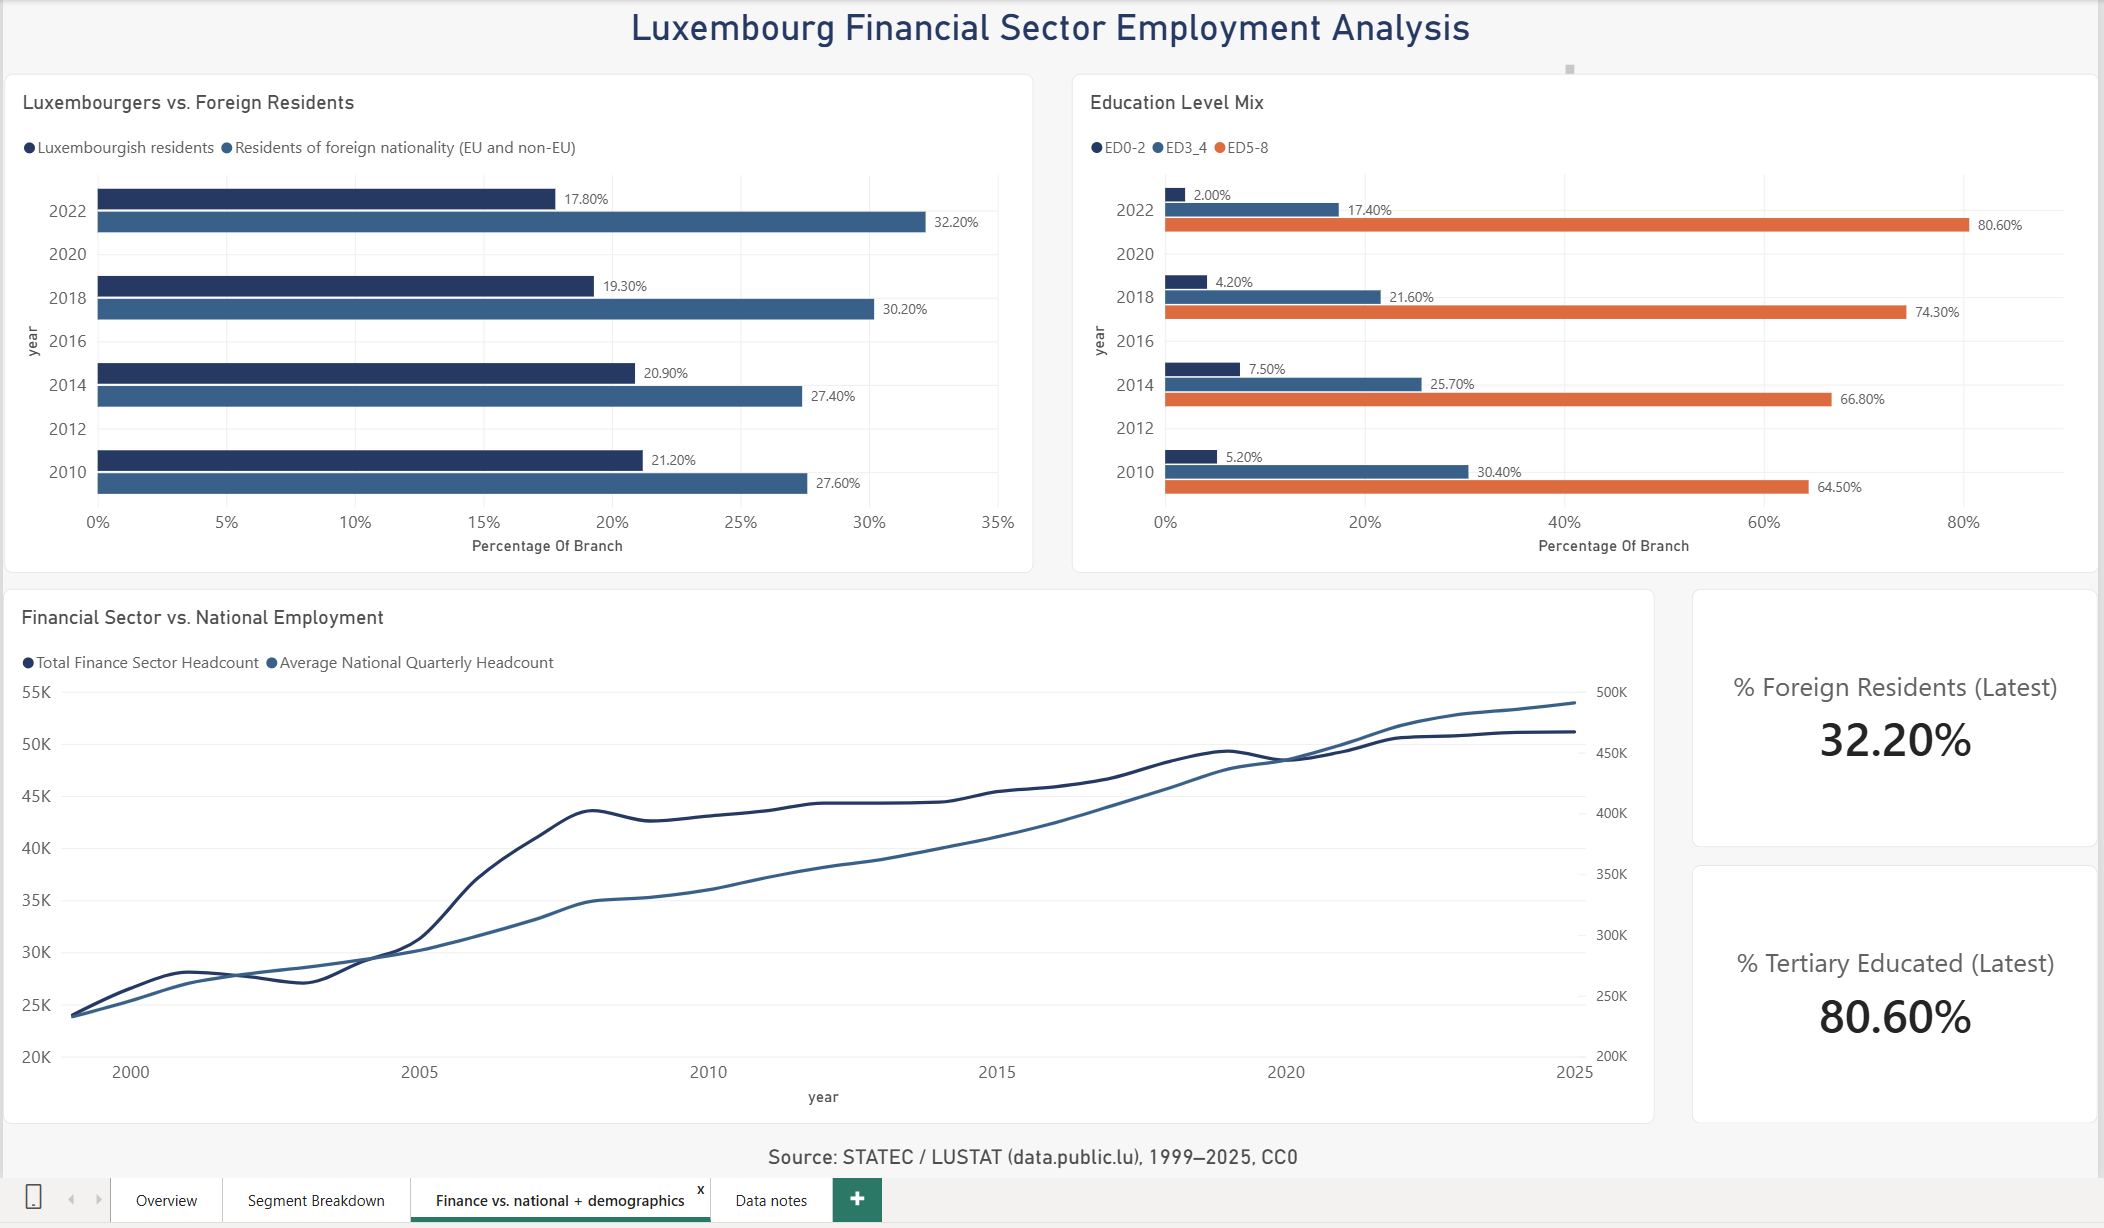

Layout of this report page (visuals, bound fields, positions):
{"tool":"powerbi","page":{"name":"Finance vs. national + demographics","canvas":[1920,1080],"ordinal":2},"visuals":[{"type":"textbox","title":"Luxembourg Financial Sector Employment Analysis","box":[480.1,5.6,960.2,63],"z":0},{"type":"lineChart","title":"Financial Sector vs. National Employment","fields":{"Category":["vw_finance_vs_national.year"],"Y":["Sum(vw_finance_vs_national.total_finance_sector_headcount)"],"Y2":["Sum(vw_finance_vs_national.avg_national_quarterly_headcount)"]},"box":[0,540,1513.4,490.5],"z":1000},{"type":"clusteredBarChart","title":"Luxembourgers vs. Foreign Residents","fields":{"Category":["vw_nationality_mix.year"],"Series":["vw_nationality_mix.Place_of_residence"],"Y":["Sum(vw_nationality_mix.pct_of_branch)"]},"box":[0.7,67.8,943.5,457.9],"z":2000},{"type":"clusteredBarChart","title":"Education Level Mix","fields":{"Category":["vw_education_mix.year"],"Series":["vw_education_mix.education_level_code"],"Y":["Sum(vw_education_mix.percentage_of_branch)"]},"box":[979.4,67.8,941.7,457.9],"z":3000},{"type":"textbox","title":"Source: STATEC / LUSTAT (data.public.lu), 1999–2025, CC0","box":[675.9,1049.2,536.1,30.6],"z":4000},{"type":"cardVisual","fields":{"Data":["vw_nationality_mix.Latest Pct Foreign Residents"]},"box":[1547.6,540,372.6,237],"z":5000},{"type":"cardVisual","fields":{"Data":["vw_education_mix.Latest Pct Tertiary Educated"]},"box":[1547.2,792.3,372.6,237],"z":6000}]}

Visuals, with their boxes on the page's 1920x1080 design canvas (x1, y1, x2, y2). These are canvas units, not pixel positions in the 2104x1228 screenshot, which may show the page scaled, cropped or inside an application window:
"Luxembourg Financial Sector Employment Analysis" textbox: crop(480, 6, 1440, 69)
"Financial Sector vs. National Employment" lineChart: crop(0, 540, 1513, 1030)
"Luxembourgers vs. Foreign Residents" clusteredBarChart: crop(1, 68, 944, 526)
"Education Level Mix" clusteredBarChart: crop(979, 68, 1921, 526)
"Source: STATEC / LUSTAT (data.public.lu), 1999–2025, CC0" textbox: crop(676, 1049, 1212, 1080)
cardVisual - vw_nationality_mix.Latest Pct Foreign Residents: crop(1548, 540, 1920, 777)
cardVisual - vw_education_mix.Latest Pct Tertiary Educated: crop(1547, 792, 1920, 1029)
